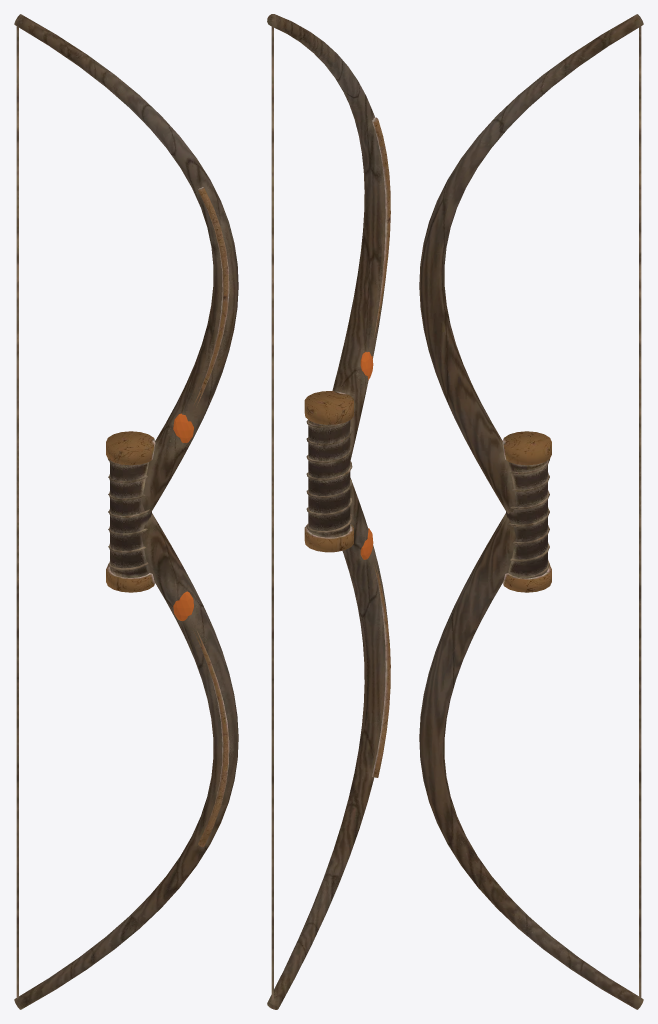
The model's file is eq_bow_3.glb.
3 renders of one model, left to right at view 1: azimuth 90°, elevation 25°; view 2: azimuth 150°, elevation 25°; view 3: azimuth 270°, elevation 25°, orthographic.
Parts seen in each view (by area): view 1: eq_bow_3; view 2: eq_bow_3; view 3: eq_bow_3.
Part boxes in pixels (box(x1,y1,x2,y2)): eq_bow_3: box(14, 14, 238, 1009); eq_bow_3: box(267, 14, 390, 1009); eq_bow_3: box(419, 14, 643, 1009).
Bounding box in the file's own units: 0.066 × 1.45 × 0.2973.
1 material, 1 textured.
